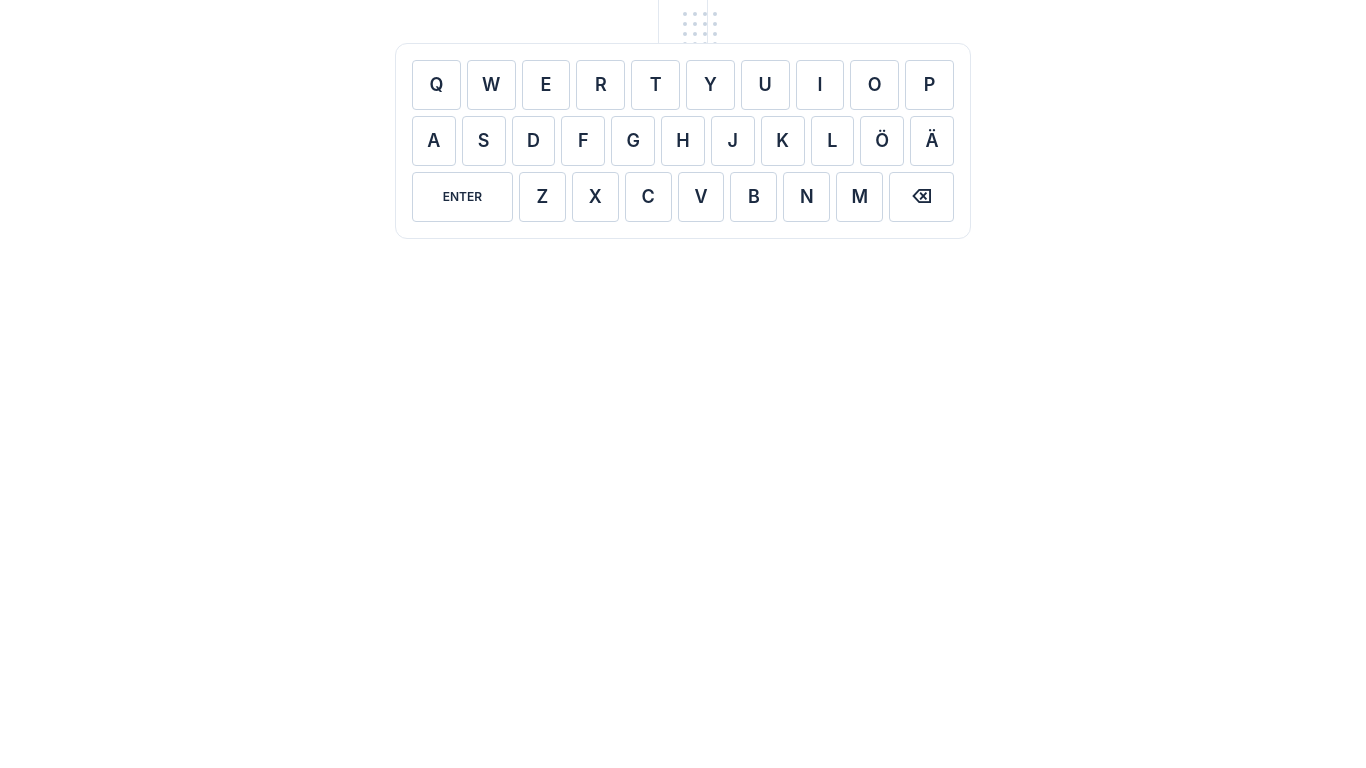
Test case: SanuriGame › shows the current streak in the win modal
The width and height of the screenshot is (1366, 768).
Expected: the button "K" is enabled, [761,116,804,166]
Click the button "A" at (434, 141), box [412,116,456,166]
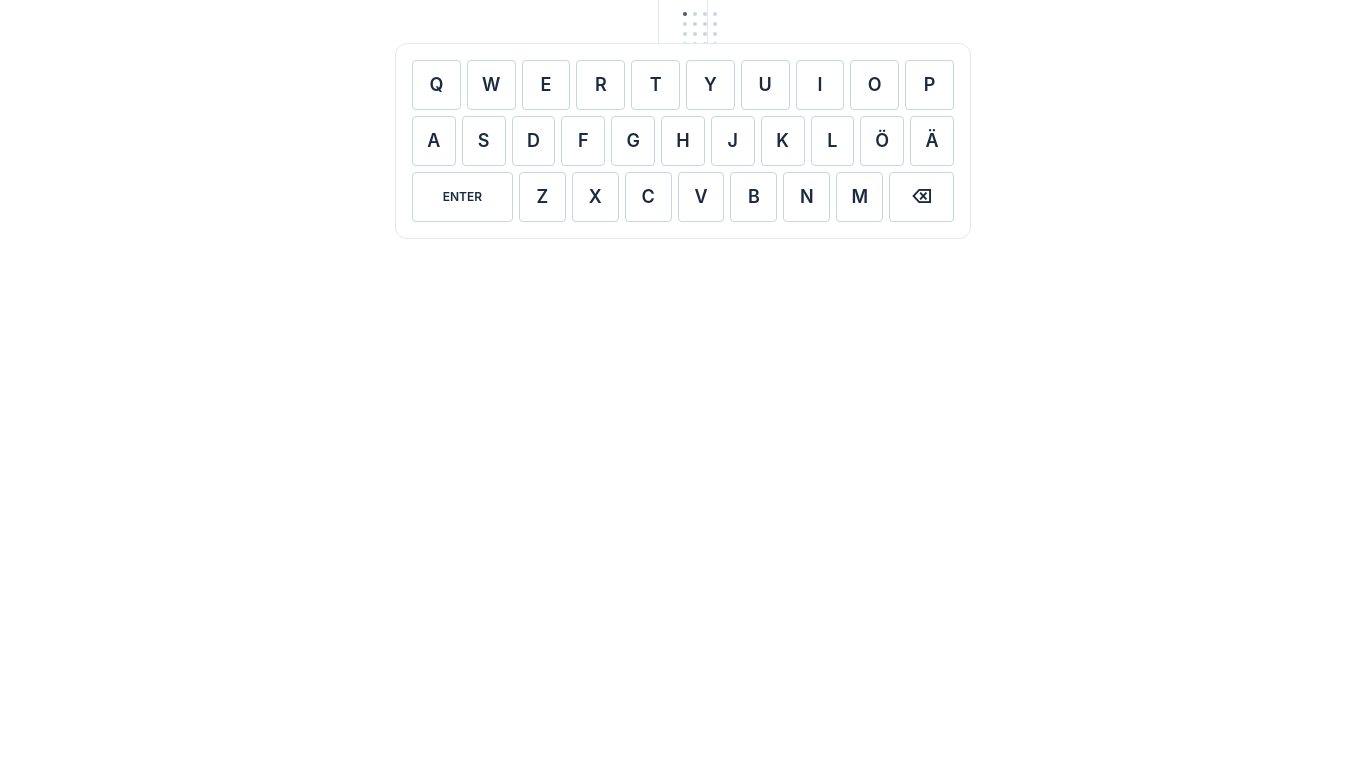
Click the button "A" at (434, 141), box [412,116,456,166]
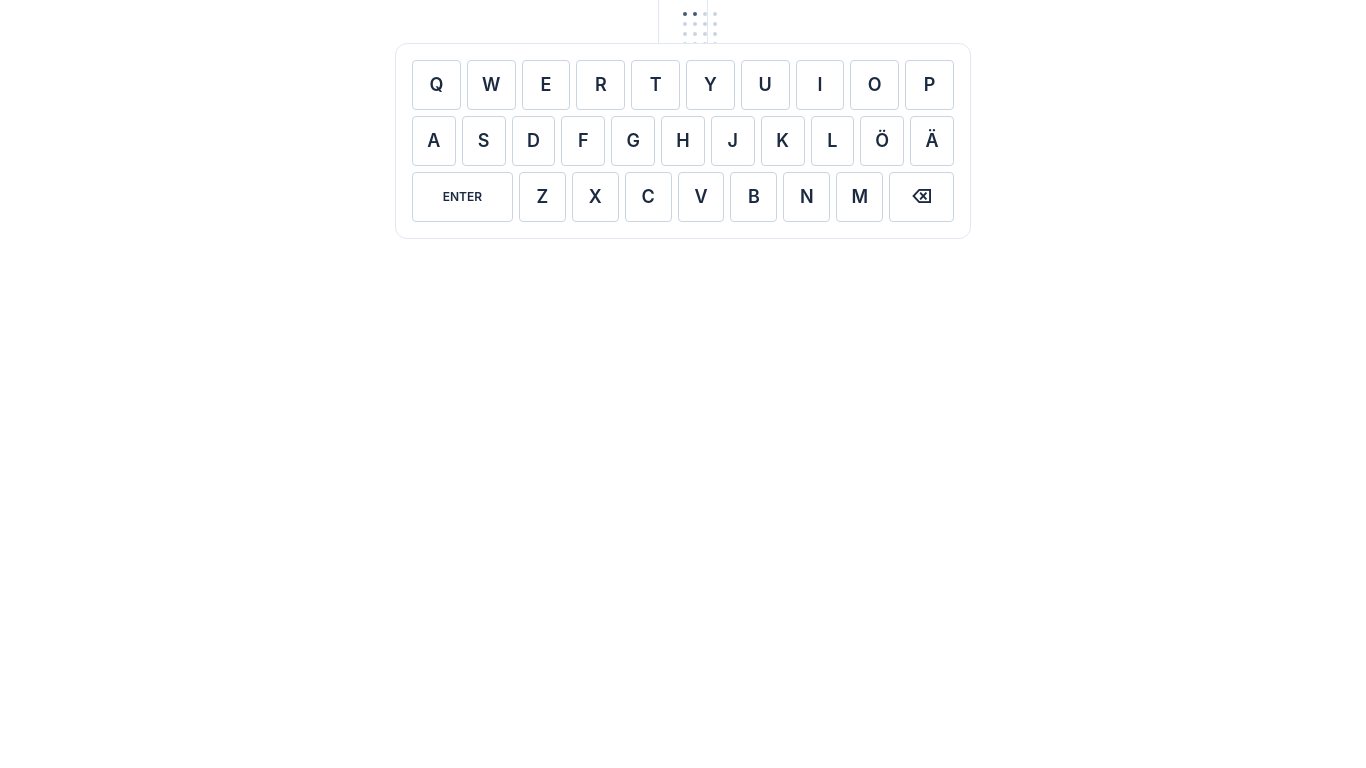
Click the button "M" at (860, 197), box [836,172,883,222]
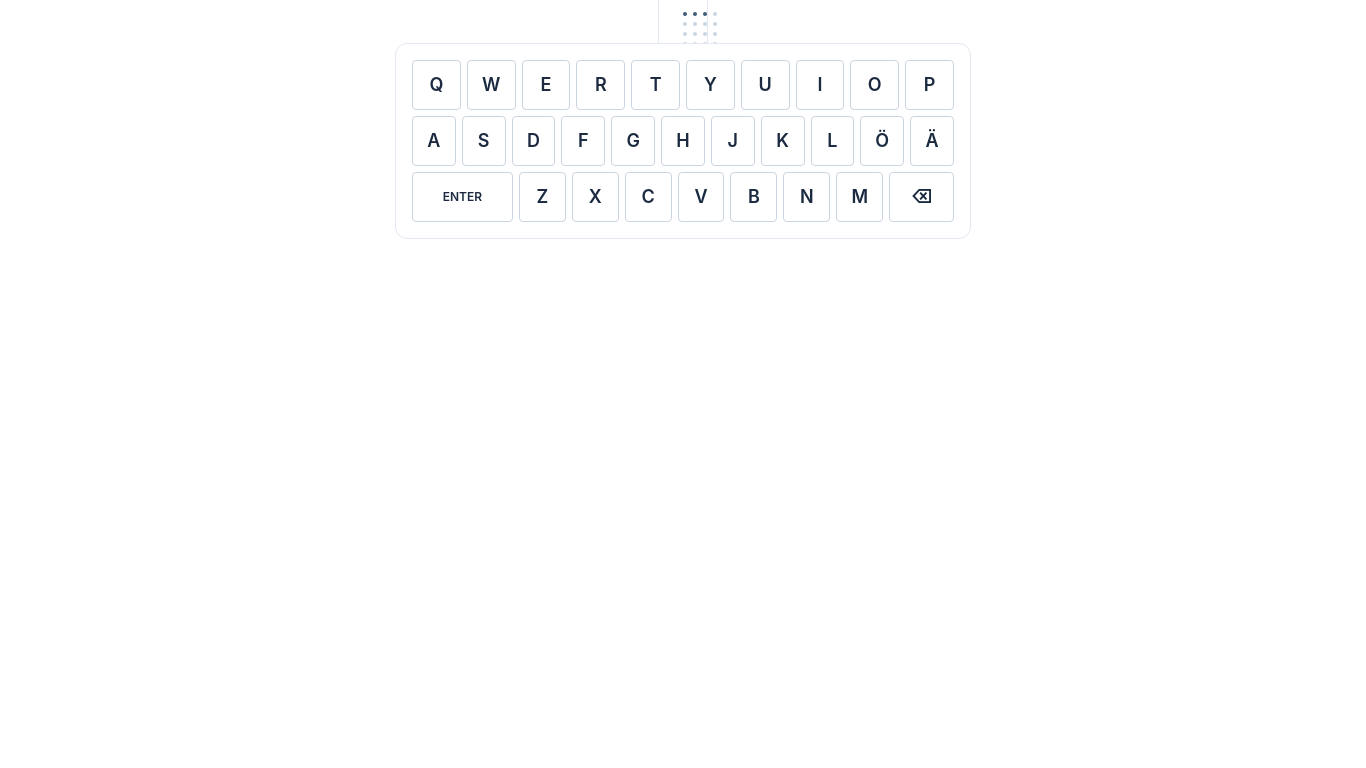
Click the button "U" at (765, 85), box [741,60,790,110]
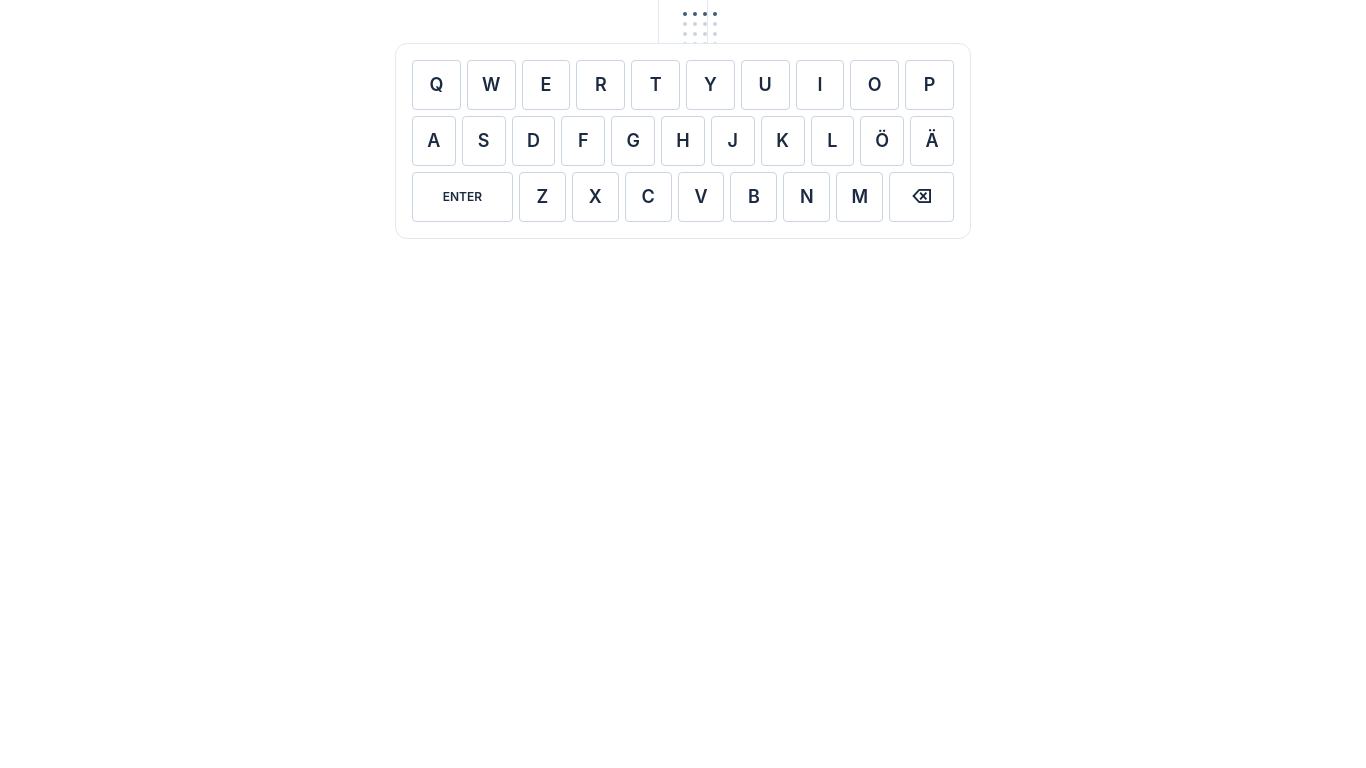
Click the button with aria-label "Tarkista arvaus" at (462, 197), box [412,172,513,222]
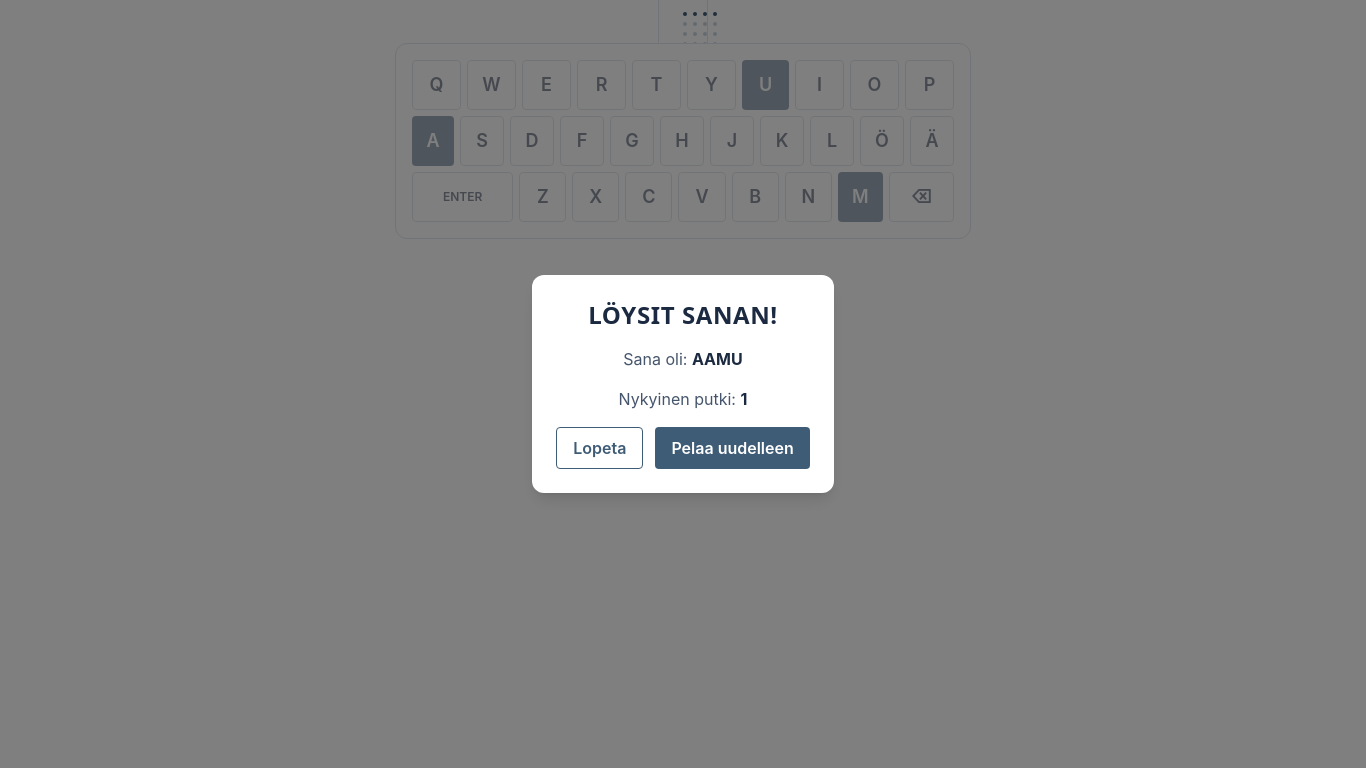
Result: the text "Nykyinen putki:" is shown at [619,389,736,409]
Result: the dialog shows "1" at [740,389,747,409]
